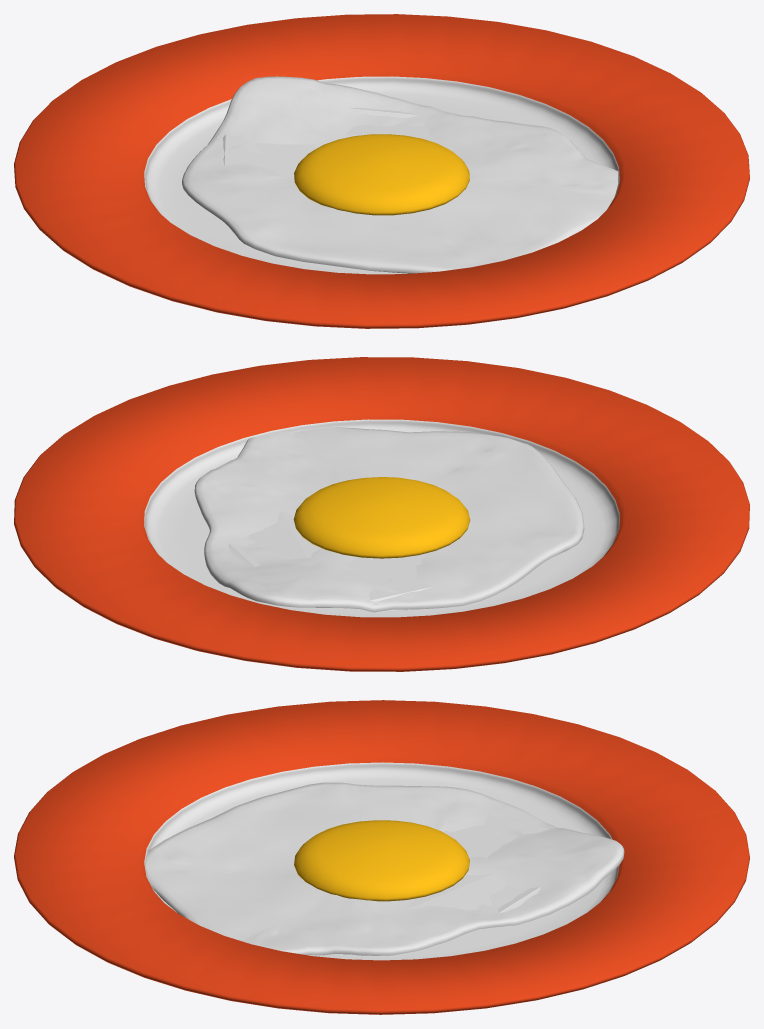
The model's file is Coocked EGG.FBX.
The picture shows the model from 3 angles, top to bottom: view 1: azimuth 30°, elevation 25°; view 2: azimuth 150°, elevation 25°; view 3: azimuth 270°, elevation 25°; orthographic projection.
Visible parts, largest first — view 1: Model_001_Egg's_23, Egg, Model_001_Egg's_21; view 2: Model_001_Egg's_23, Egg, Model_001_Egg's_21; view 3: Model_001_Egg's_23, Egg, Model_001_Egg's_21.
Part boxes in pixels (left/top/right/bottom): Model_001_Egg's_23: left=14, top=14, right=749, bottom=328; Egg: left=182, top=76, right=618, bottom=273; Model_001_Egg's_21: left=294, top=134, right=469, bottom=215; Model_001_Egg's_23: left=14, top=357, right=749, bottom=671; Egg: left=194, top=427, right=584, bottom=612; Model_001_Egg's_21: left=293, top=477, right=470, bottom=558; Model_001_Egg's_23: left=14, top=700, right=749, bottom=1014; Egg: left=145, top=782, right=624, bottom=955; Model_001_Egg's_21: left=294, top=820, right=469, bottom=901.
Size of the model in its own units: 48.27 by 48.27 by 2.38.
